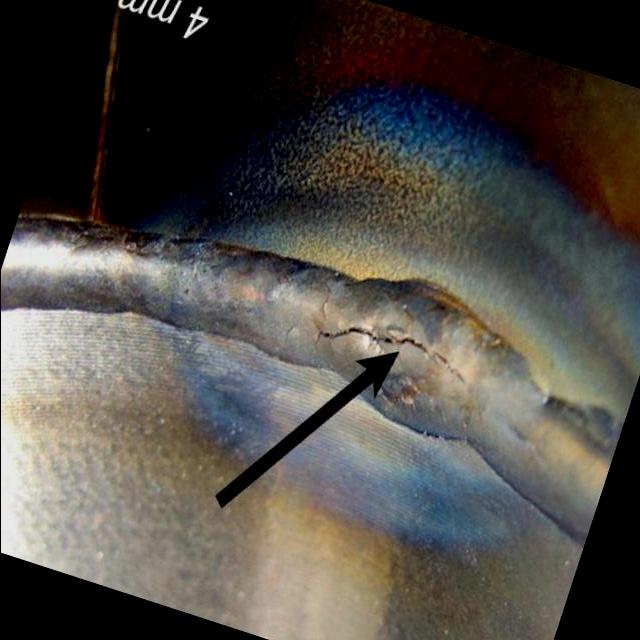defect: (307, 316, 467, 386)
